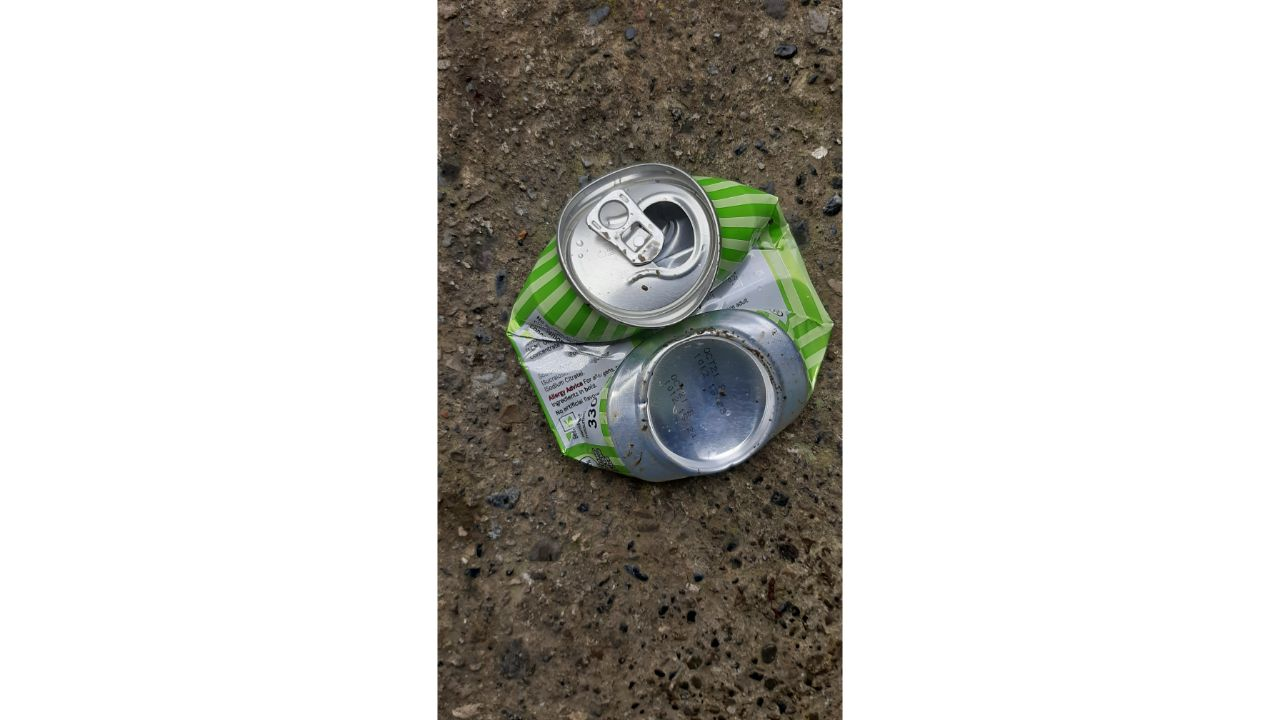Can: (502, 163, 836, 482)
